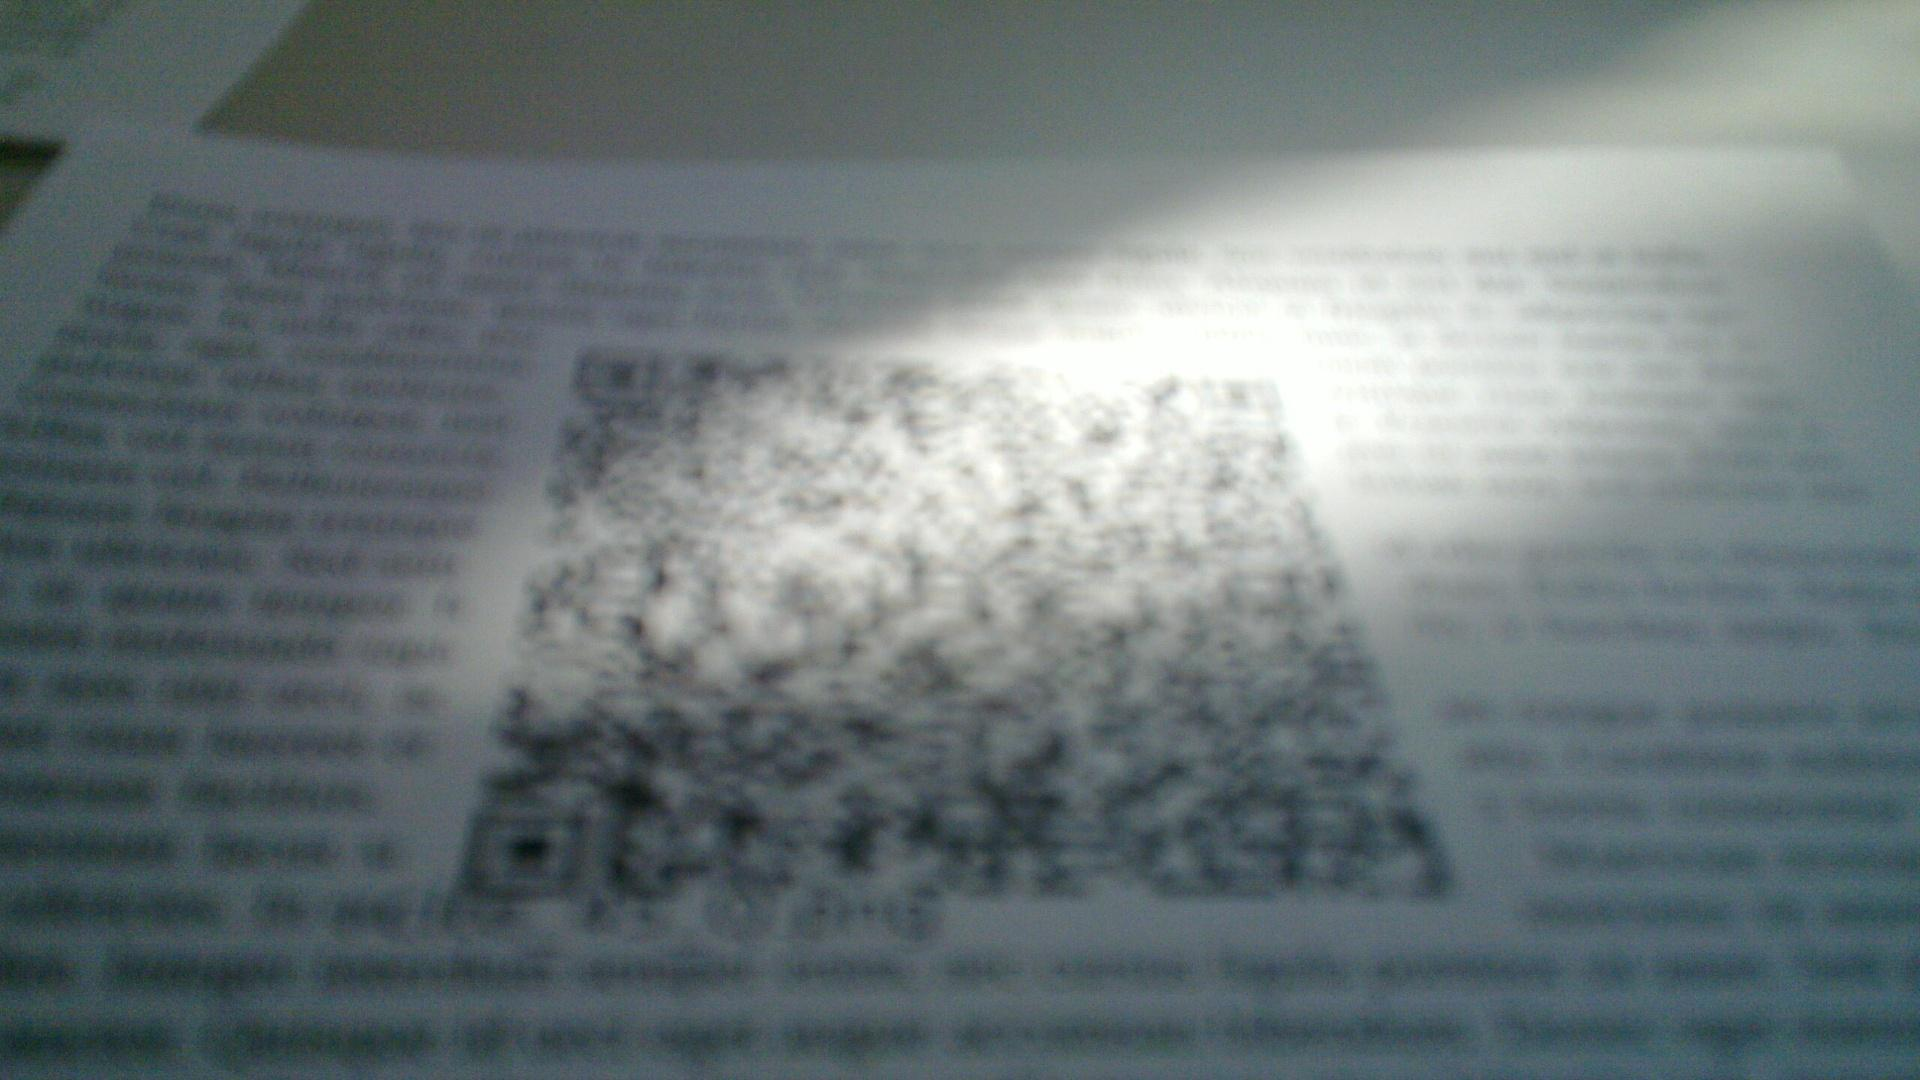Finder pattern: (452, 802, 593, 905), (1197, 367, 1291, 429), (570, 342, 671, 398)
